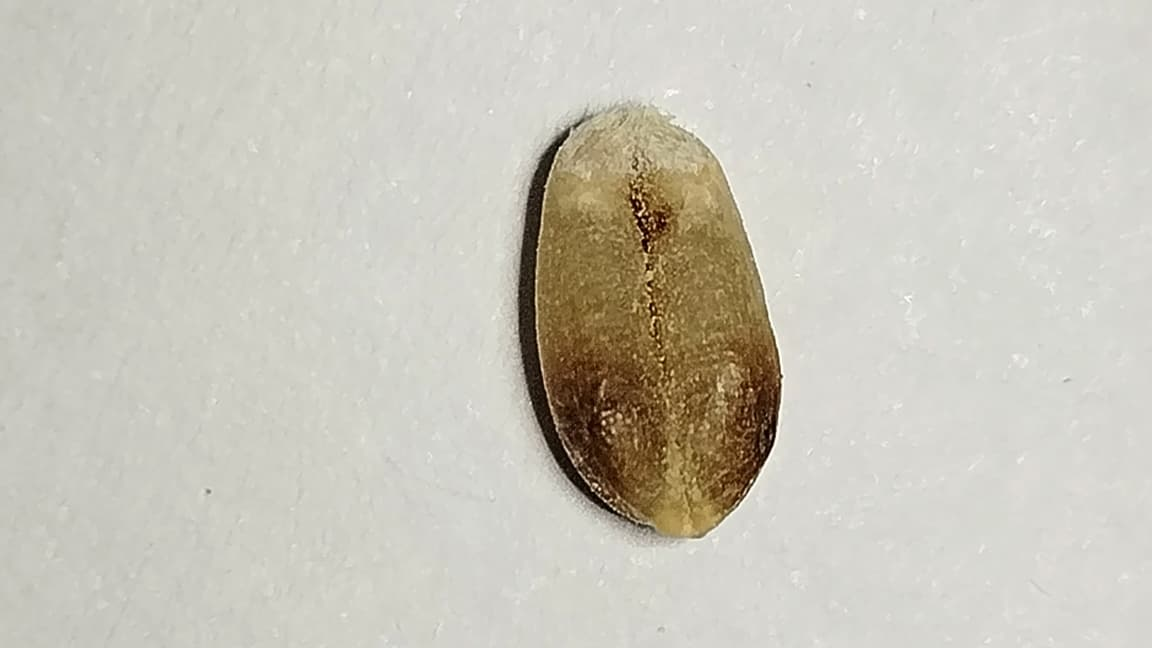damage: (525, 106, 781, 546)
staindamage: (541, 336, 783, 537)
